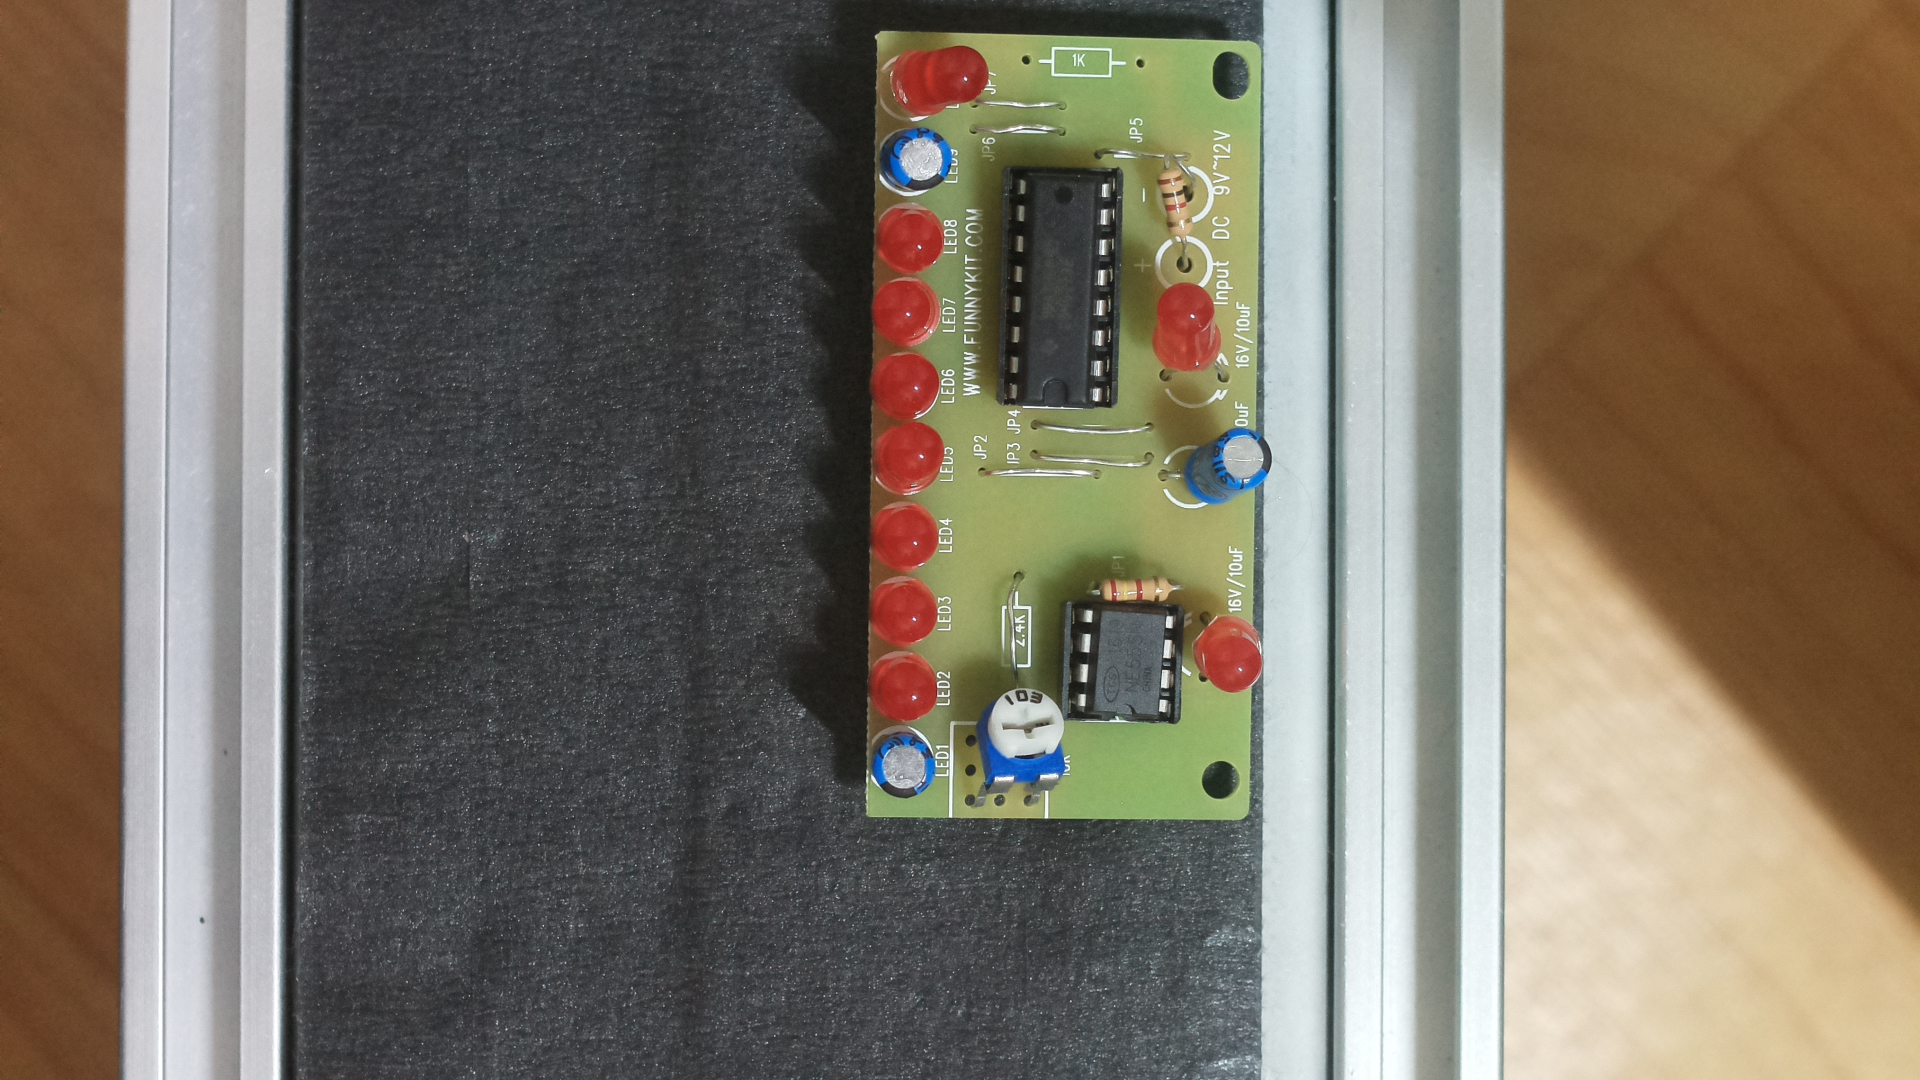B_Misordered: (858, 15, 1278, 848)
